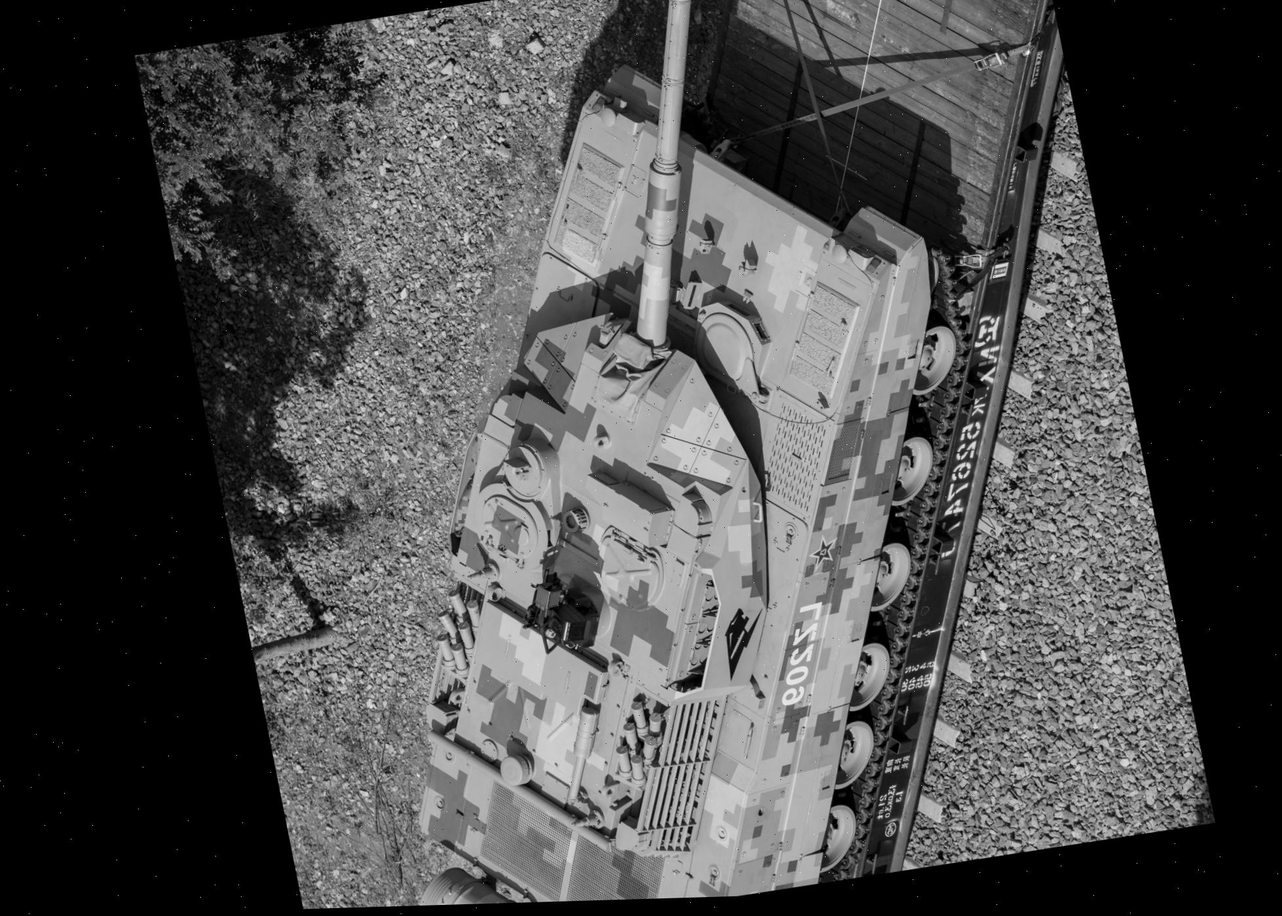tank: (231, 0, 1083, 909)
